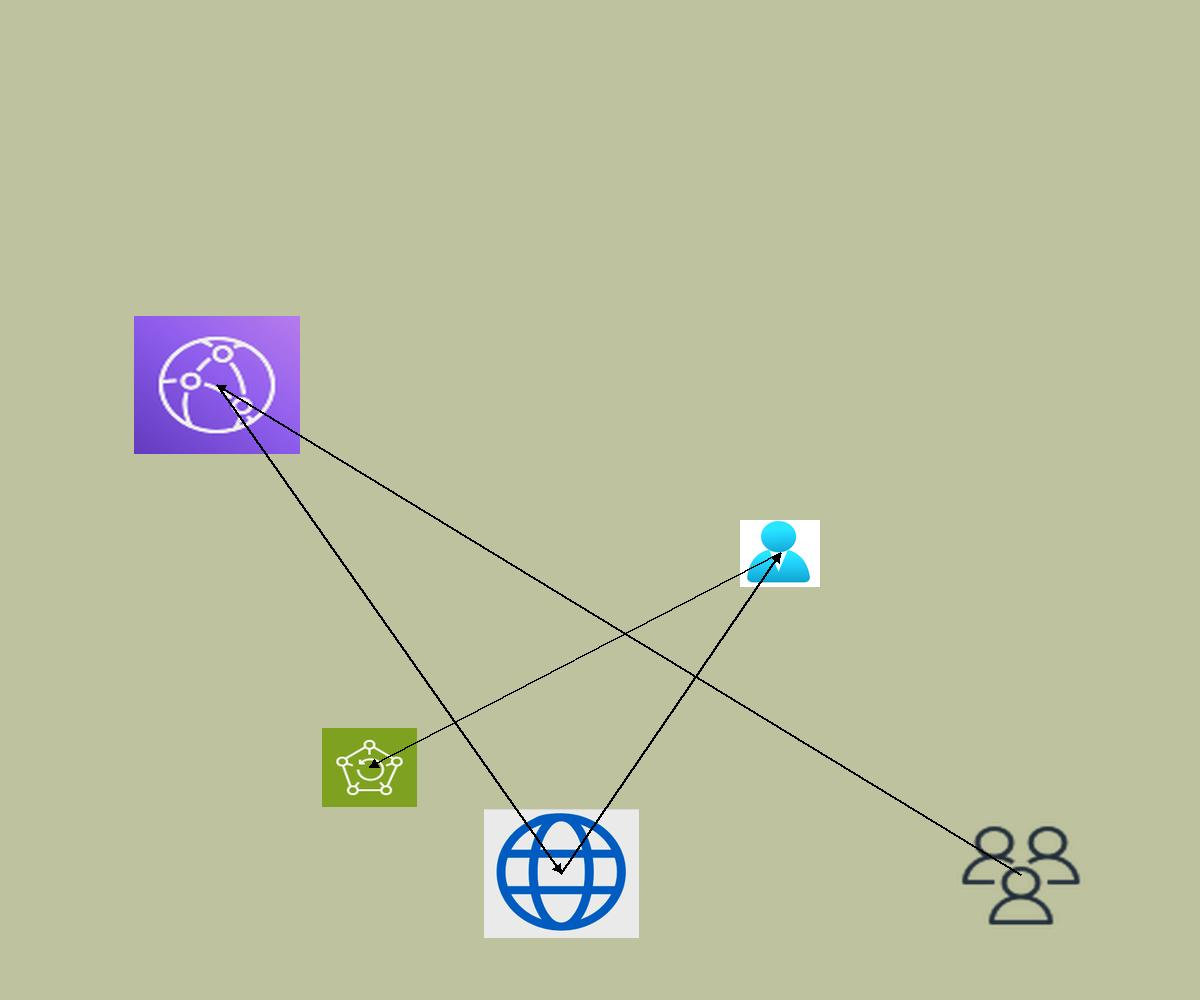AWS-Backup: (322, 728, 417, 807)
AWS-CloudFront: (134, 316, 300, 454)
AWS-Res_Users: (957, 822, 1085, 929)
Azure_http: (484, 809, 639, 938)
Azure_users: (740, 520, 820, 587)
